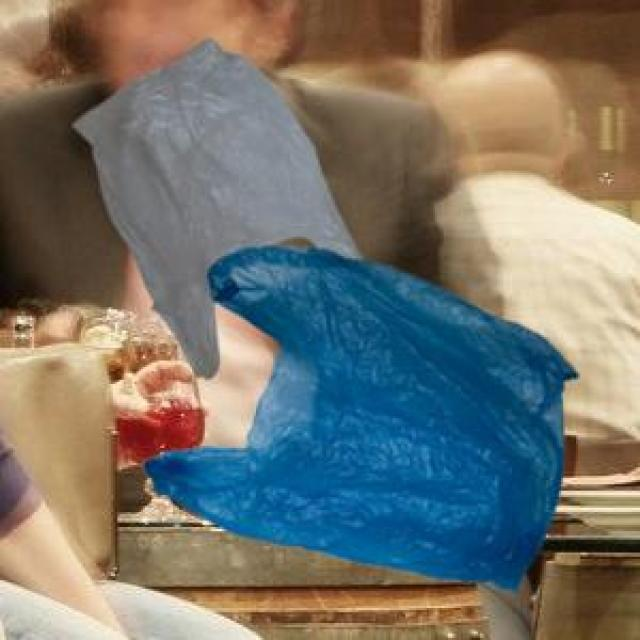Bolsa-de-nilon: (148, 243, 578, 585), (72, 35, 357, 372)
